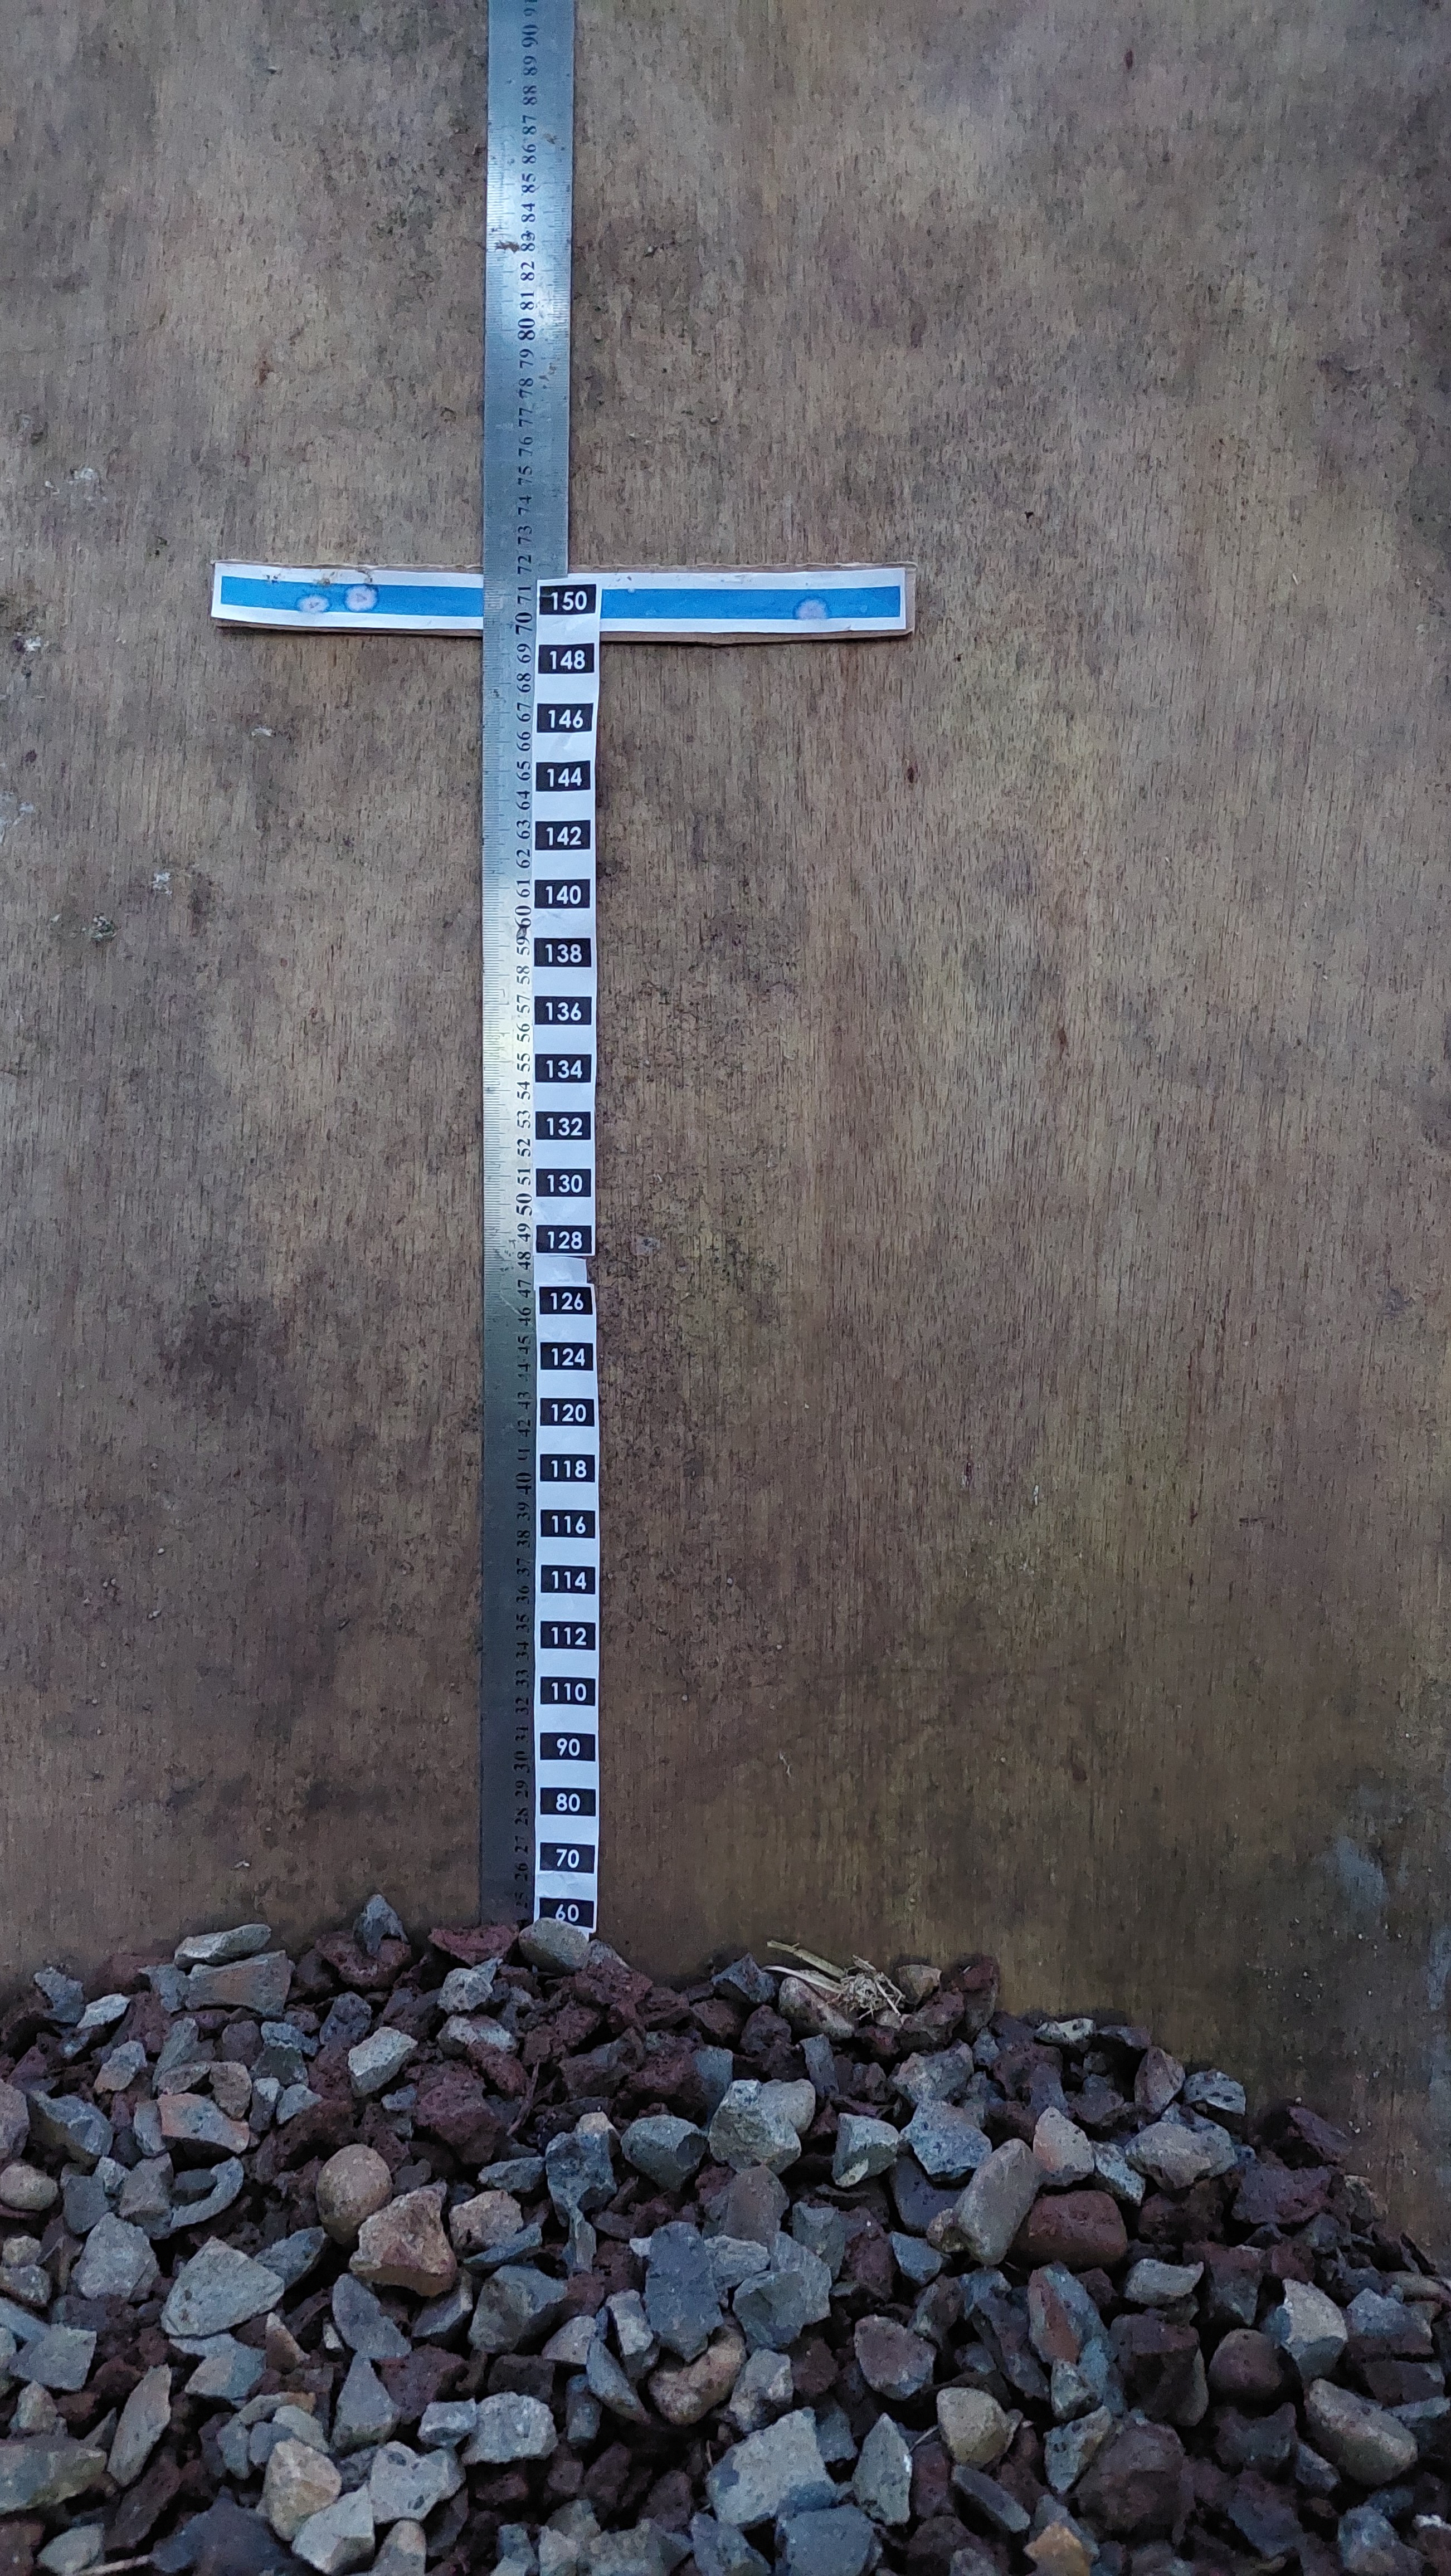kotak_2x1: (531, 934, 595, 971), (533, 991, 593, 1030), (538, 1838, 596, 1877), (538, 1674, 598, 1711), (533, 1051, 595, 1086), (538, 1617, 600, 1652), (538, 640, 596, 678), (534, 1108, 593, 1145), (538, 1451, 598, 1486), (538, 1506, 598, 1541), (538, 1562, 598, 1598), (538, 1729, 598, 1764), (534, 701, 593, 736), (533, 759, 591, 794), (534, 817, 593, 853), (534, 1164, 593, 1200), (538, 1394, 596, 1430), (538, 584, 598, 617), (533, 878, 593, 911), (534, 1223, 595, 1256), (538, 1785, 598, 1819), (538, 1339, 595, 1373), (536, 1284, 595, 1316)
mal_biru_150: (212, 564, 904, 628)
